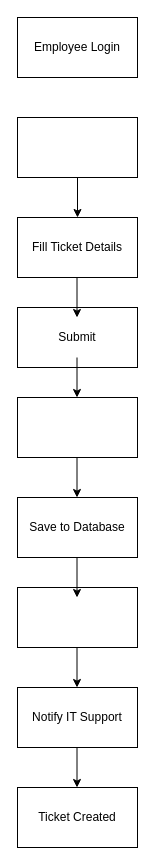
Image size: 155x865. Some labels were removed from this diagram. Each missing label, with the centre of its shape:
"Create Ticket" belongs at (77,147).
"Generate Ticket ID" belongs at (77,617).
"Validate Data" belongs at (77,427).
